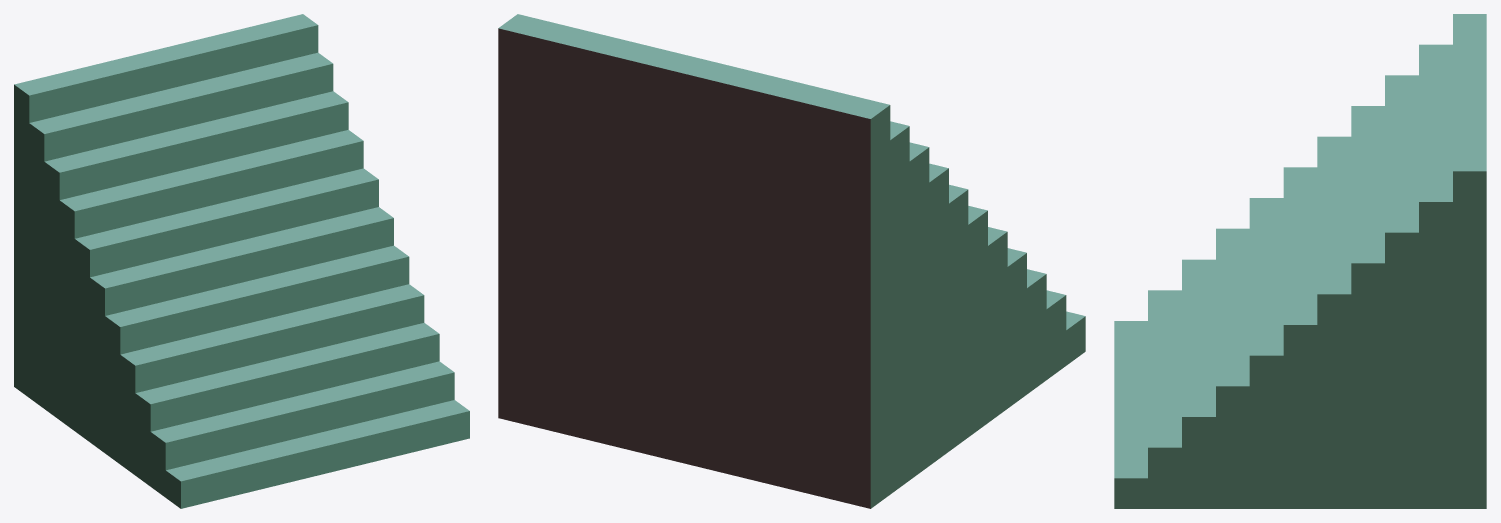
File: SM_Escalier1x1_3.FBX
3 renders of one model, left to right at view 1: azimuth 30°, elevation 25°; view 2: azimuth 150°, elevation 25°; view 3: azimuth 270°, elevation 25°, orthographic. The views are drawn at different scales.
Visible parts, largest first — view 1: SM_Escalier1x1_3; view 2: SM_Escalier1x1_3; view 3: SM_Escalier1x1_3.
Boxes of the visible parts, left/top/right/bottom form: SM_Escalier1x1_3: left=14, top=14, right=469, bottom=508; SM_Escalier1x1_3: left=498, top=14, right=1085, bottom=508; SM_Escalier1x1_3: left=1114, top=14, right=1486, bottom=508.
Bounding box in the file's own units: 100 × 99.99 × 99.99.
